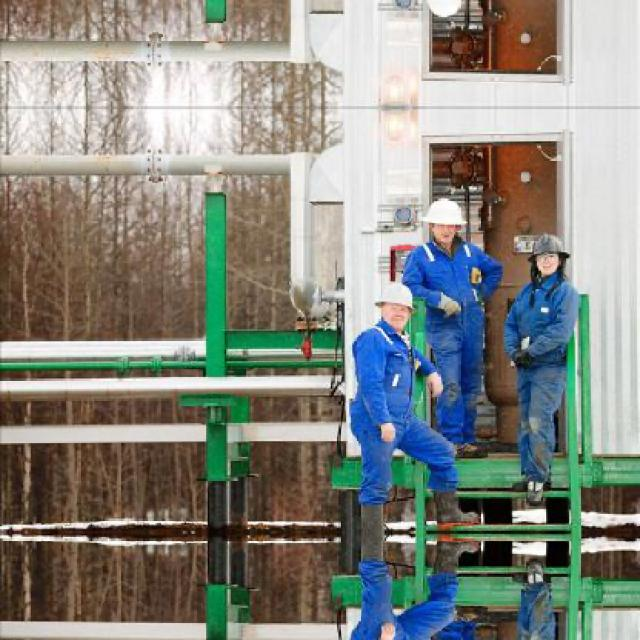helmet: (420, 192, 471, 248), (374, 276, 418, 330), (514, 231, 566, 274), (418, 0, 471, 22)
